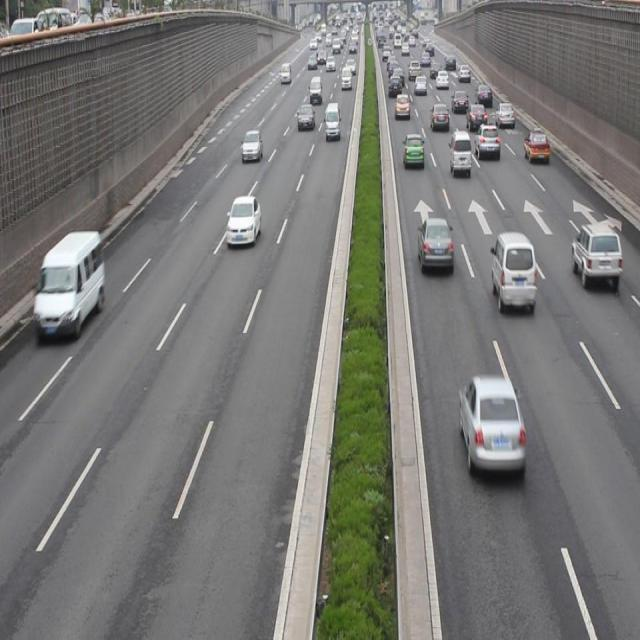car: (458, 376, 524, 479), (570, 223, 621, 291), (417, 218, 452, 274), (227, 195, 260, 248), (474, 122, 498, 160), (402, 132, 424, 170), (242, 129, 262, 164), (523, 132, 547, 161), (494, 100, 514, 130), (466, 104, 486, 128), (429, 104, 447, 130)
truck: (33, 231, 104, 339), (490, 233, 535, 315), (448, 130, 470, 178), (324, 102, 340, 140)
